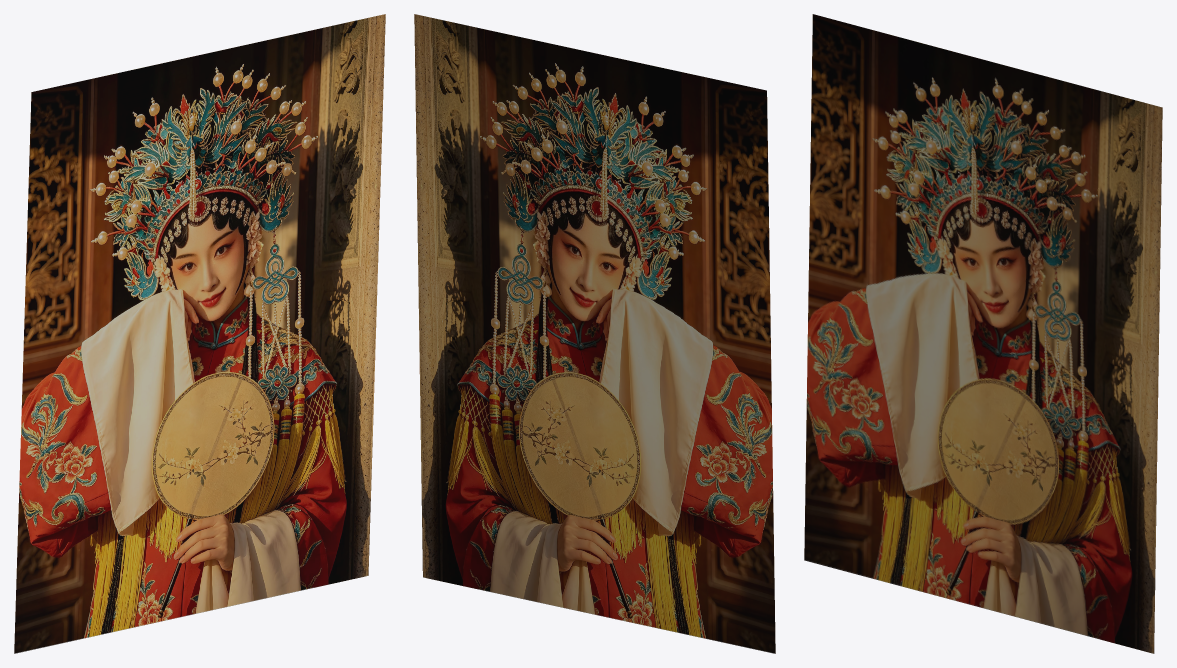
File: hao (4).glb
3 views of the same model, side by side, from view 1: azimuth 30°, elevation 25°; view 2: azimuth 150°, elevation 25°; view 3: azimuth 330°, elevation 25° (orthographic).
Parts seen in each view (by area): view 1: 平面; view 2: 平面; view 3: 平面.
Part boxes in pixels (x1,y1,x2,y2): 平面: (14, 14, 385, 653); 平面: (414, 14, 775, 653); 平面: (804, 14, 1162, 653).
Size of the model in its own units: 2.07 by 3.07 by 0.0483.
1 material, 1 textured.
